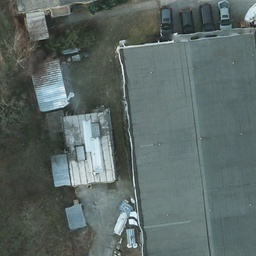car: (197, 1, 213, 32), (216, 0, 231, 32), (159, 6, 171, 42), (180, 7, 191, 39)
